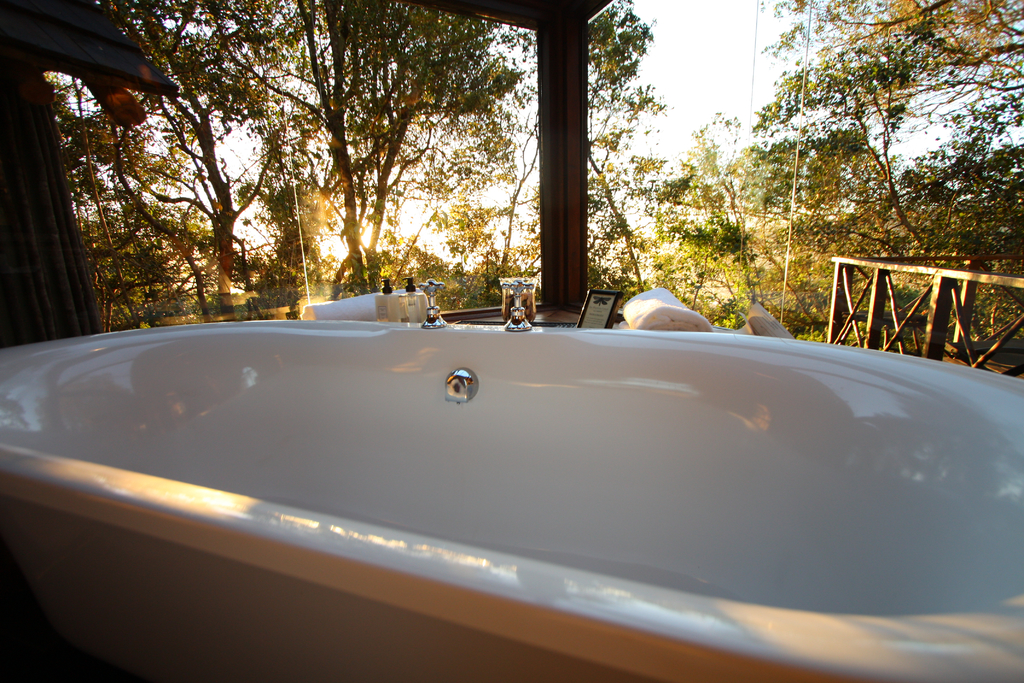Tree: (0, 0, 1022, 354)
